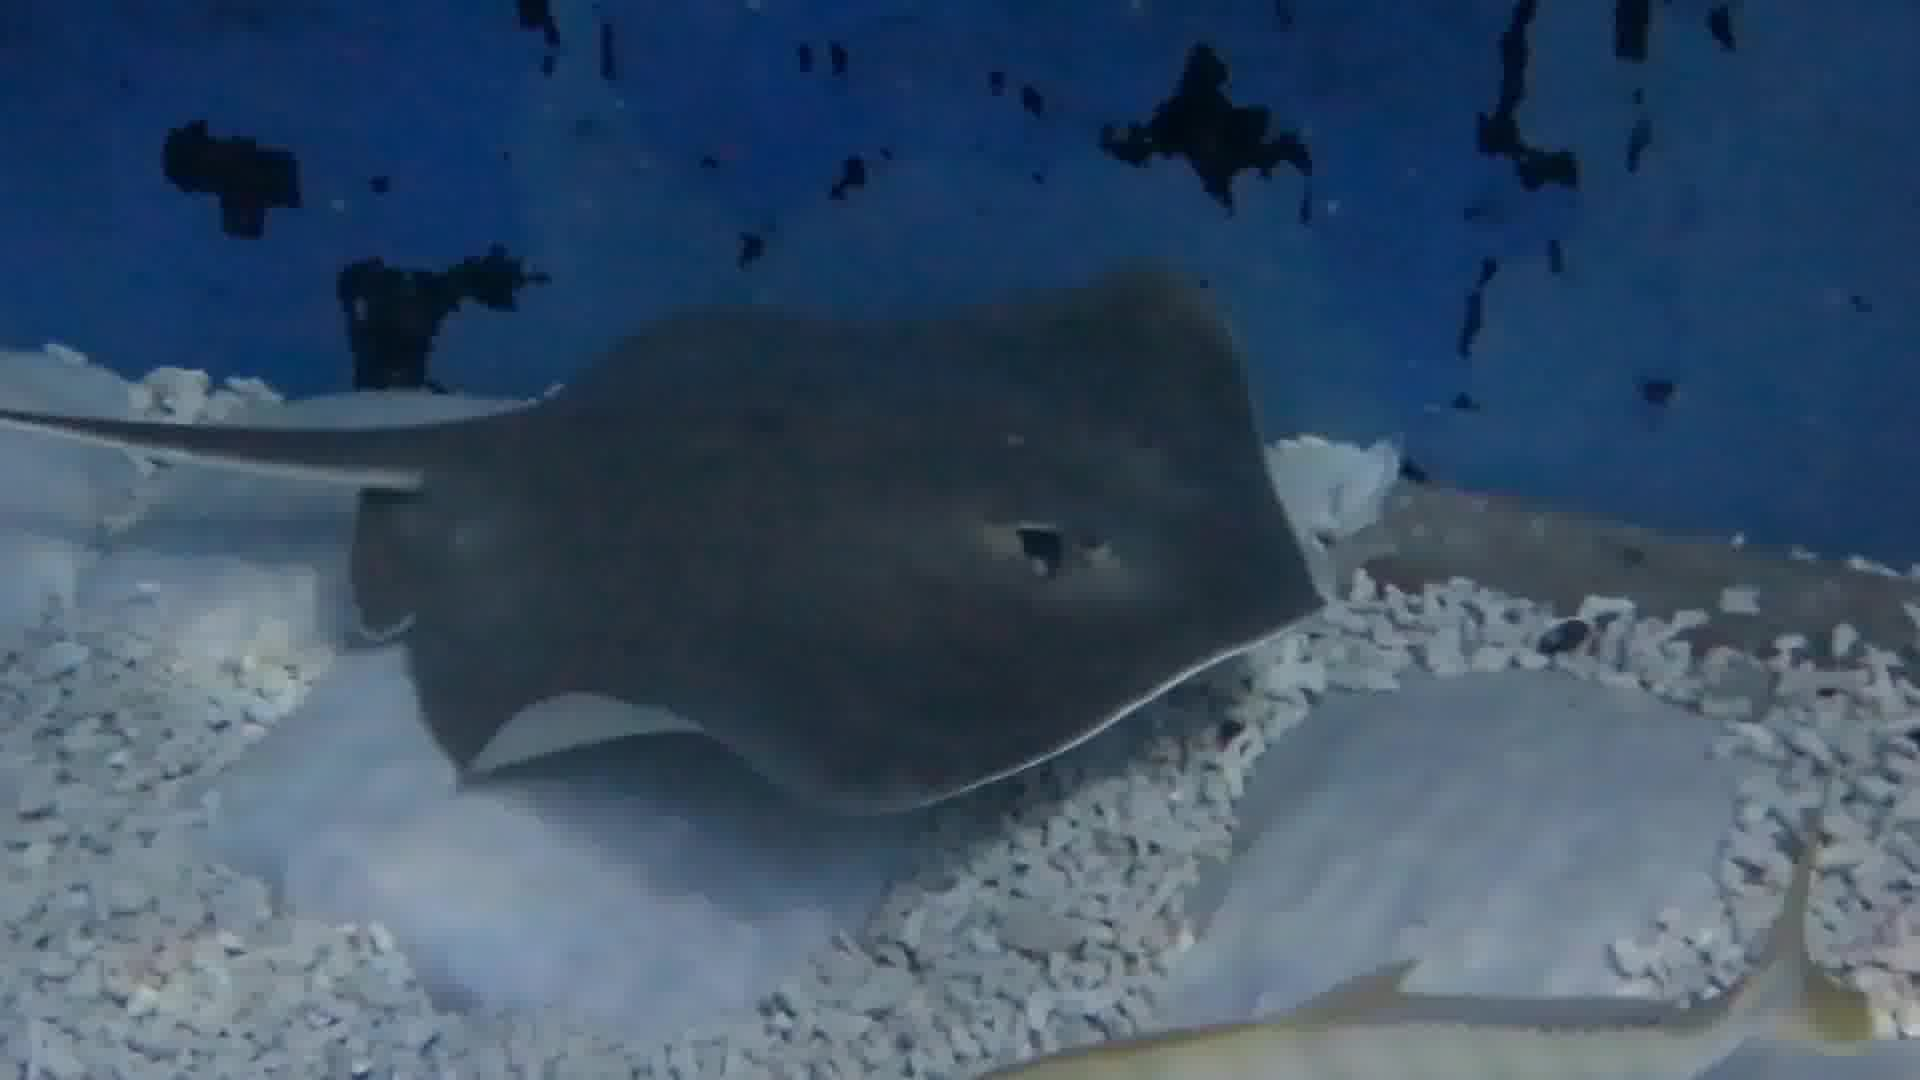Dasyatis bennetti: (345, 73, 1385, 901)
